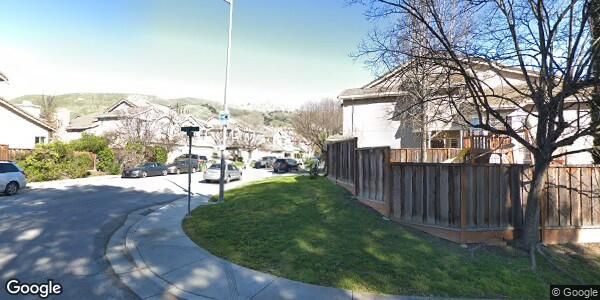Steel_Pole: (215, 1, 235, 203)
